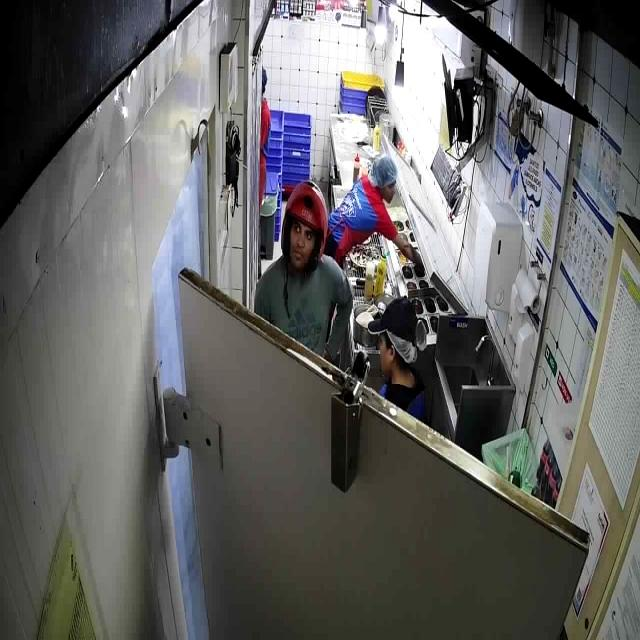helmet: (280, 181, 330, 277)
